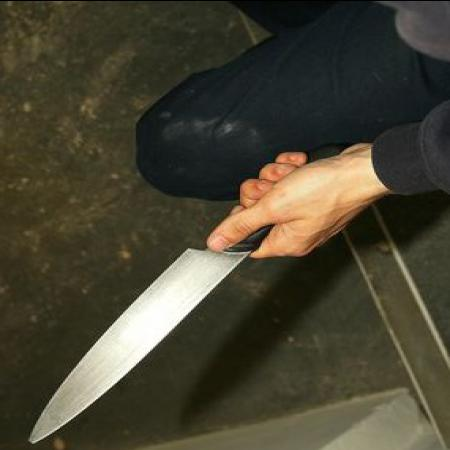long weapon: (21, 148, 317, 442)
